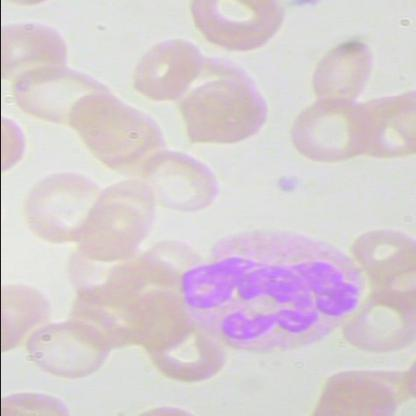Platelets: (274, 172, 302, 194)
RBC: (9, 58, 122, 140), (174, 74, 276, 150), (17, 171, 111, 252), (285, 94, 373, 168), (137, 145, 225, 219), (25, 314, 113, 388), (306, 34, 386, 108), (336, 289, 415, 362), (184, 0, 289, 54), (132, 36, 210, 102)
WBC: (172, 216, 366, 368)
